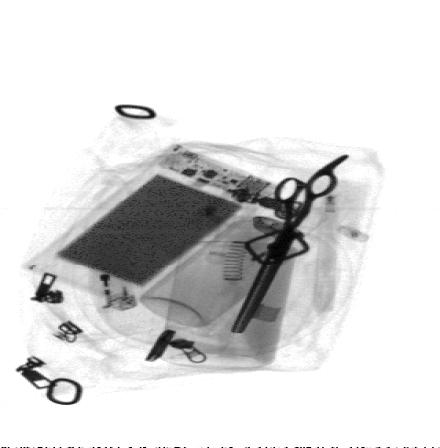Lighter: (98, 248, 140, 311)
Powerbank: (19, 144, 280, 305)
Scissors: (228, 153, 349, 335)
Sprayer: (137, 190, 333, 328)
